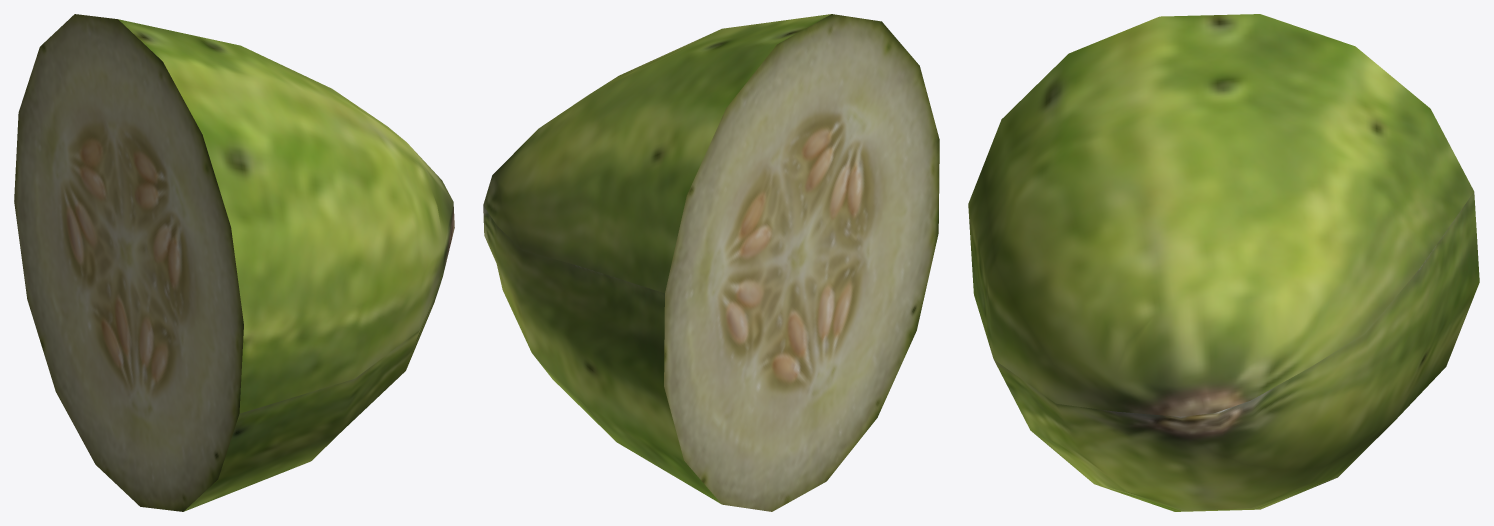
The model's file is cucumber_part_1.fbx.
3 renders of one model, left to right at view 1: azimuth 30°, elevation 25°; view 2: azimuth 150°, elevation 25°; view 3: azimuth 270°, elevation 25°, orthographic.
Parts seen in each view (by area): view 1: Cylinder.001; view 2: Cylinder.001; view 3: Cylinder.001.
Boxes of the visible parts, bbox=[...] form: Cylinder.001: bbox=[14, 14, 454, 511]; Cylinder.001: bbox=[483, 14, 939, 511]; Cylinder.001: bbox=[968, 14, 1479, 511].
Bounding box in the file's own units: 6.9 × 9.32 × 9.3.
